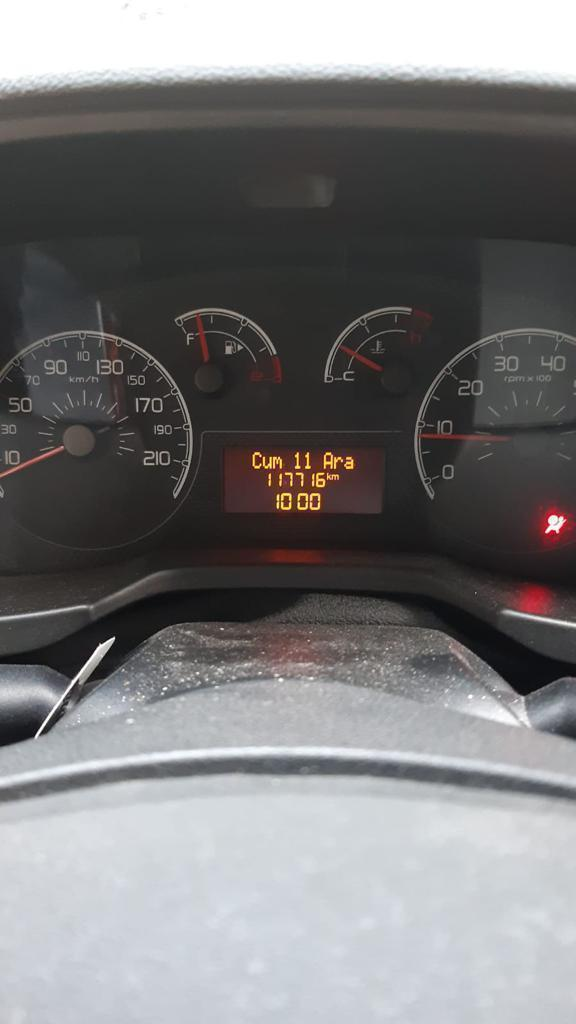0: (280, 492, 292, 511), (296, 492, 308, 510), (309, 491, 320, 510)
1: (304, 451, 312, 469), (294, 451, 301, 470), (275, 492, 280, 510), (278, 471, 283, 488), (310, 472, 315, 488), (267, 471, 271, 487)
6: (315, 471, 325, 488)
7: (295, 471, 304, 487), (284, 471, 293, 486)
X: (251, 450, 262, 469), (323, 450, 333, 469), (272, 456, 283, 469), (344, 455, 354, 469), (262, 455, 272, 469), (333, 456, 343, 469), (331, 473, 340, 480), (326, 472, 331, 481)
odometer: (219, 446, 387, 516)
